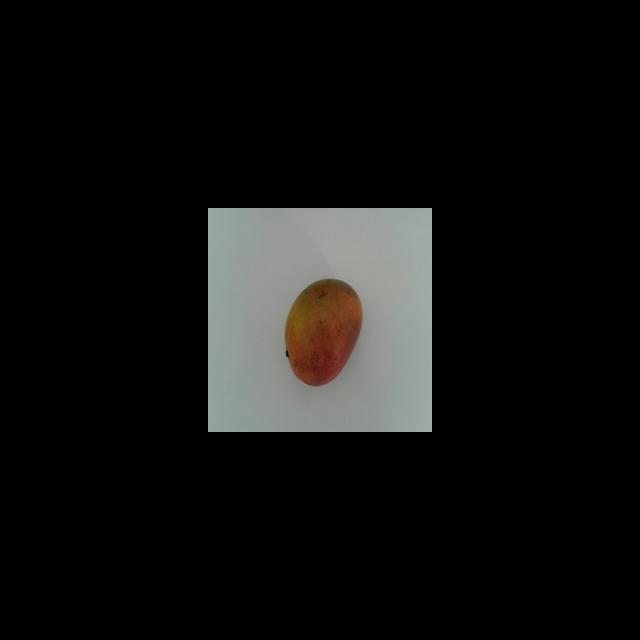Mango: (284, 277, 363, 386)
